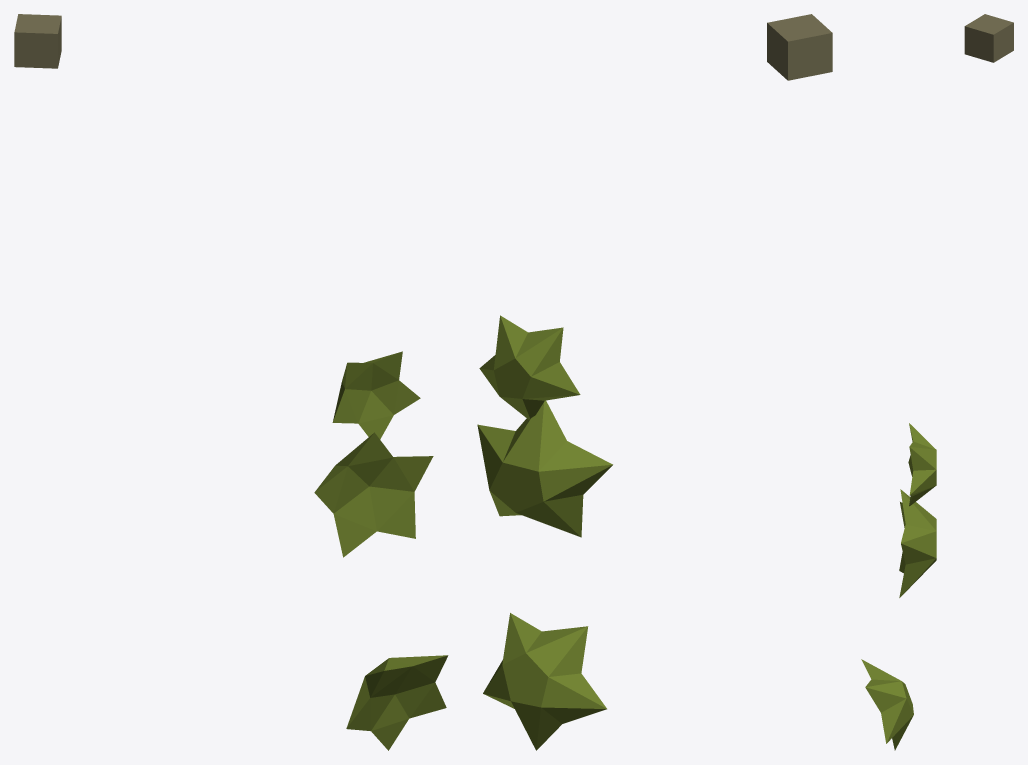
The picture shows the model from 3 angles, left to right: view 1: azimuth 30°, elevation 25°; view 2: azimuth 150°, elevation 25°; view 3: azimuth 270°, elevation 25°; orthographic projection. The views are drawn at different scales.
Visible parts, largest first — view 1: Box16095_green2_0, Box16079_green2_0, Box16096_green2_0, Box15827_rock2_0; view 2: Box16095_green2_0, Box16079_green2_0, Box16096_green2_0, Box15827_rock2_0; view 3: Box16095_green2_0, Box16079_green2_0, Box15827_rock2_0, Box16096_green2_0.
Boxes of the visible parts, x1,y1,x2,y2 form: Box16095_green2_0: (314,432,433,557); Box16079_green2_0: (346,655,448,750); Box16096_green2_0: (332,351,420,439); Box15827_rock2_0: (14,14,61,68); Box16095_green2_0: (477,400,612,537); Box16079_green2_0: (483,613,606,750); Box16096_green2_0: (479,315,580,419); Box15827_rock2_0: (767,14,832,80); Box16095_green2_0: (899,489,936,597); Box16079_green2_0: (861,659,913,750); Box15827_rock2_0: (964,14,1013,62); Box16096_green2_0: (908,423,936,506).
Bounding box in the file's own units: 393 × 763 × 173.
